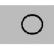no answer: (20, 13, 46, 35)
